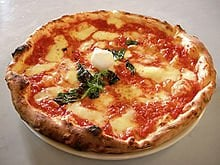sandwich: (7, 10, 215, 153)
